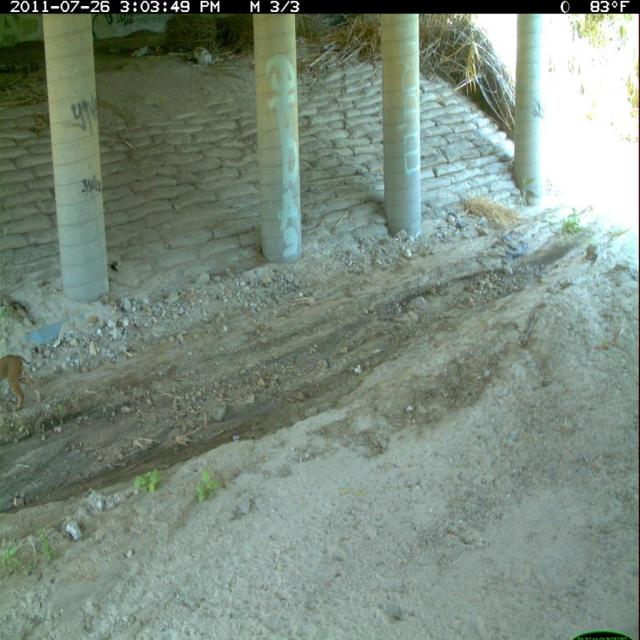bobcat: (2, 350, 37, 418)
